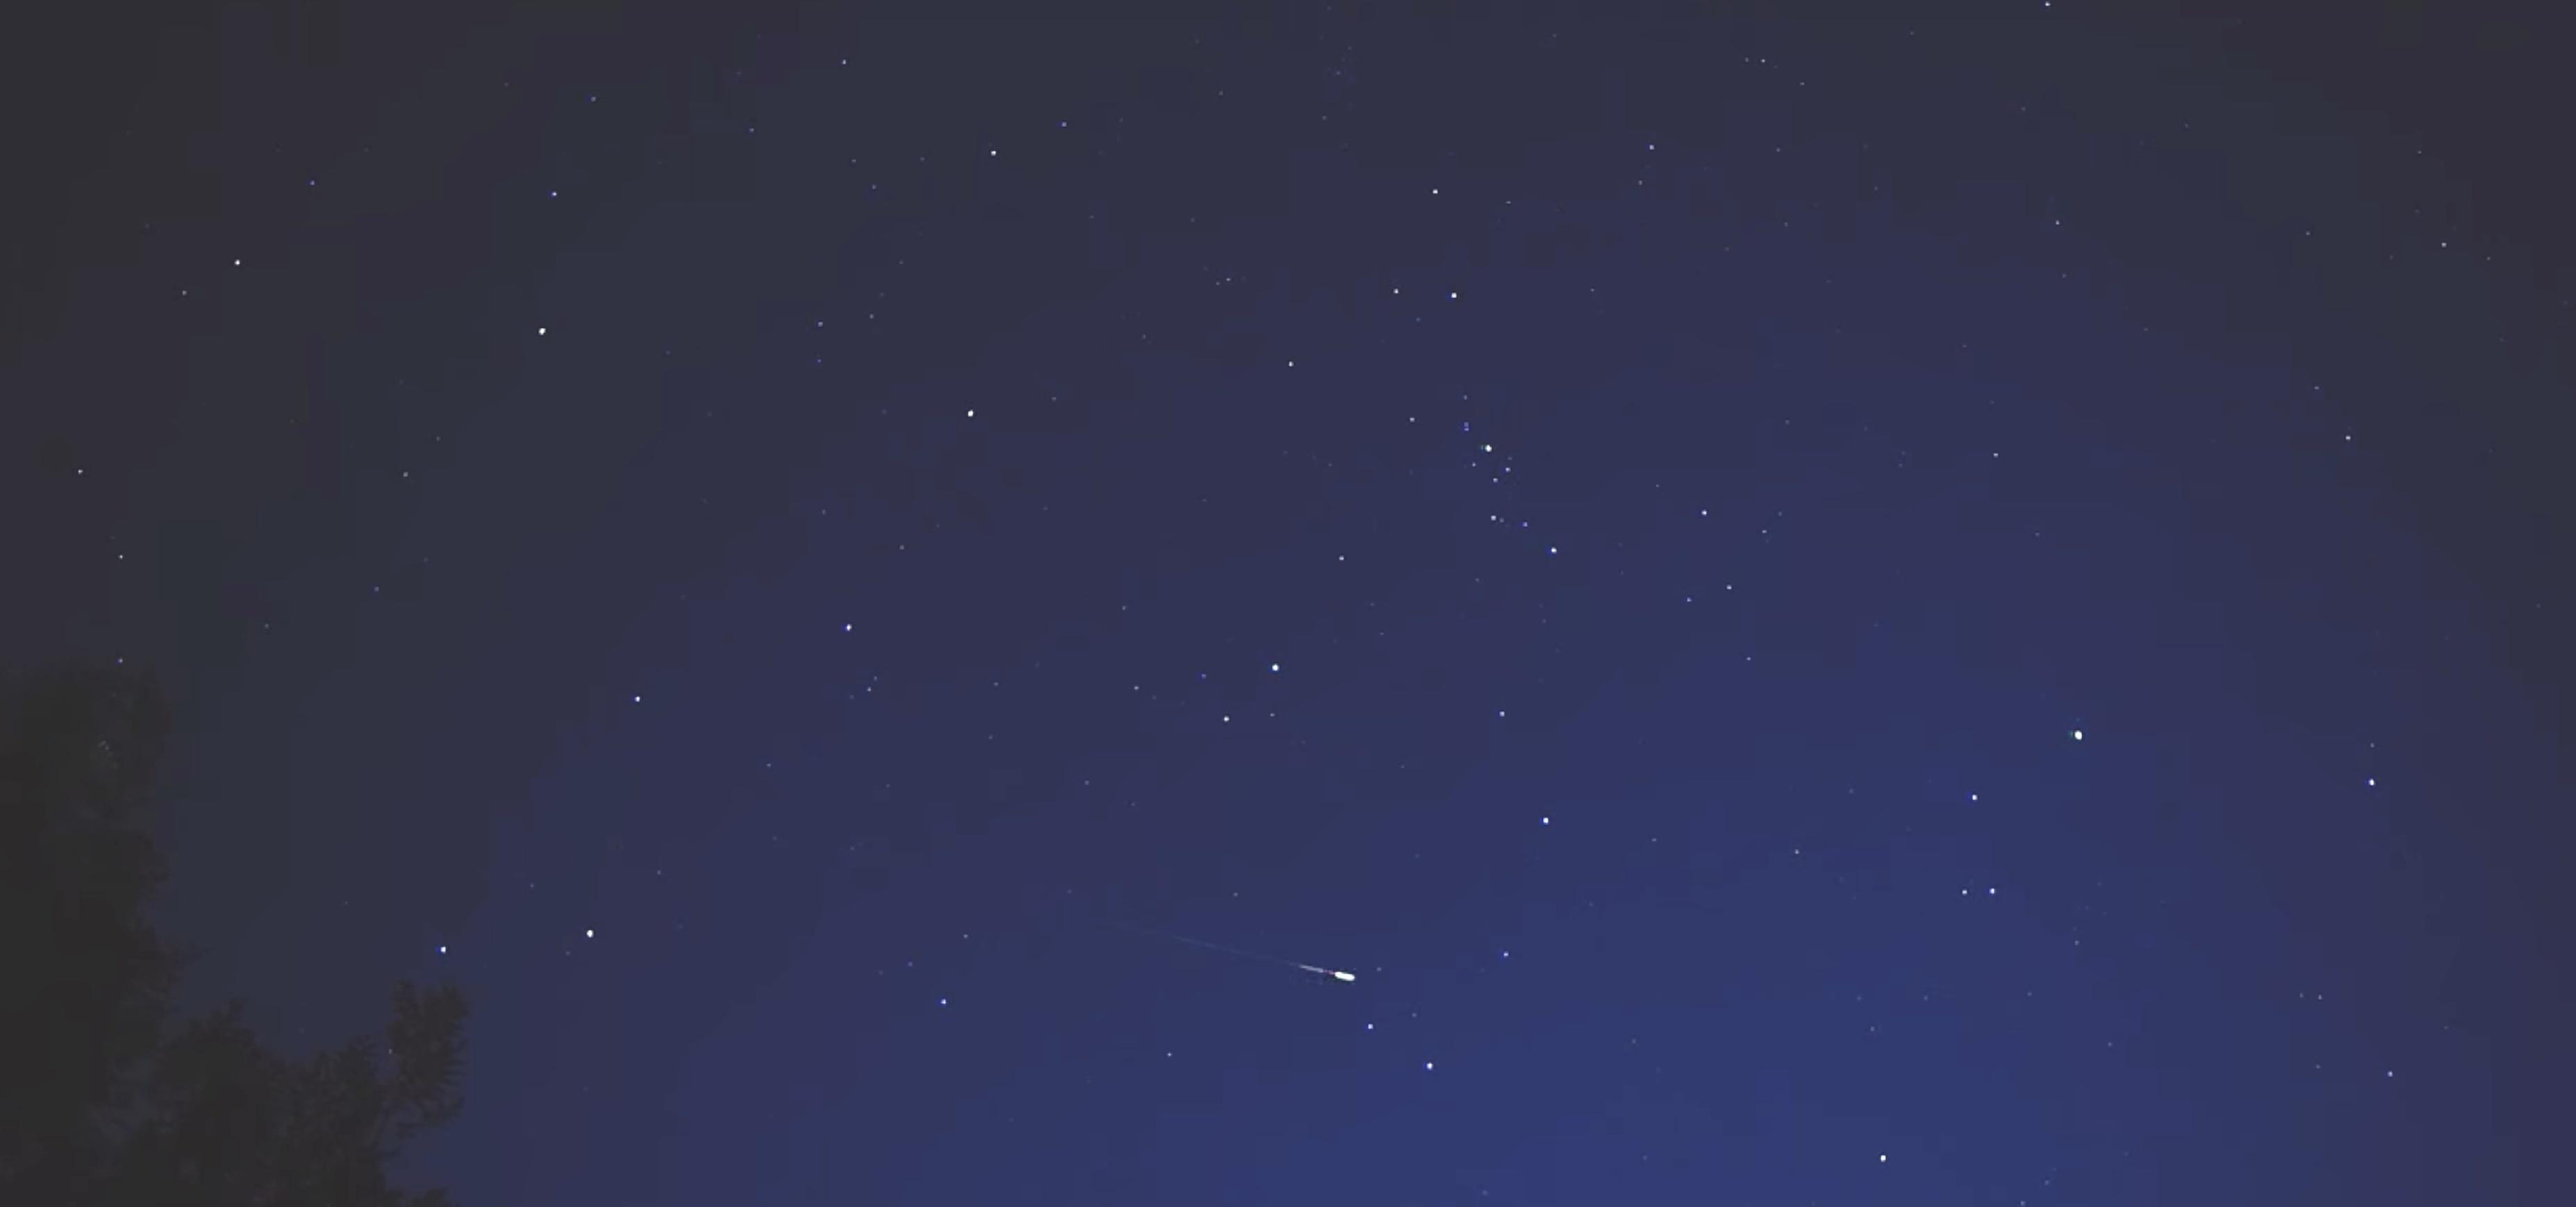meteorite: (1125, 915, 1398, 997)
